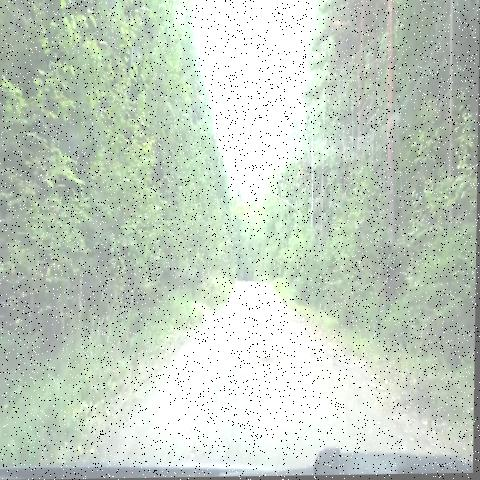pothole: (244, 326, 321, 393)
